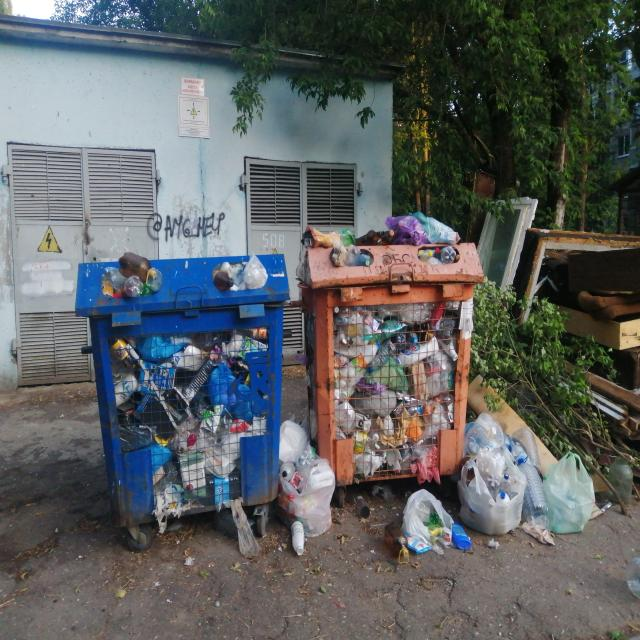bin: (76, 251, 284, 506), (301, 261, 465, 414)
trash: (467, 177, 640, 543), (110, 335, 272, 509), (334, 311, 456, 478), (299, 219, 460, 265), (281, 418, 335, 544), (390, 486, 472, 565), (100, 246, 162, 300), (210, 247, 268, 293)
